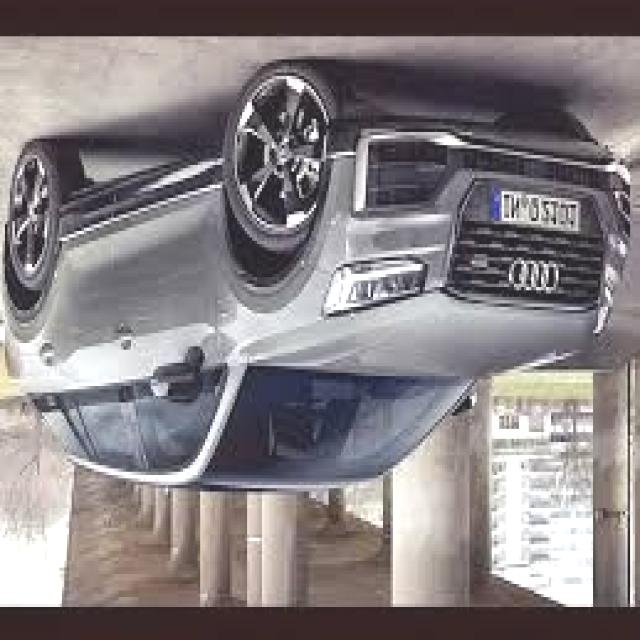black: (0, 84, 640, 485)
